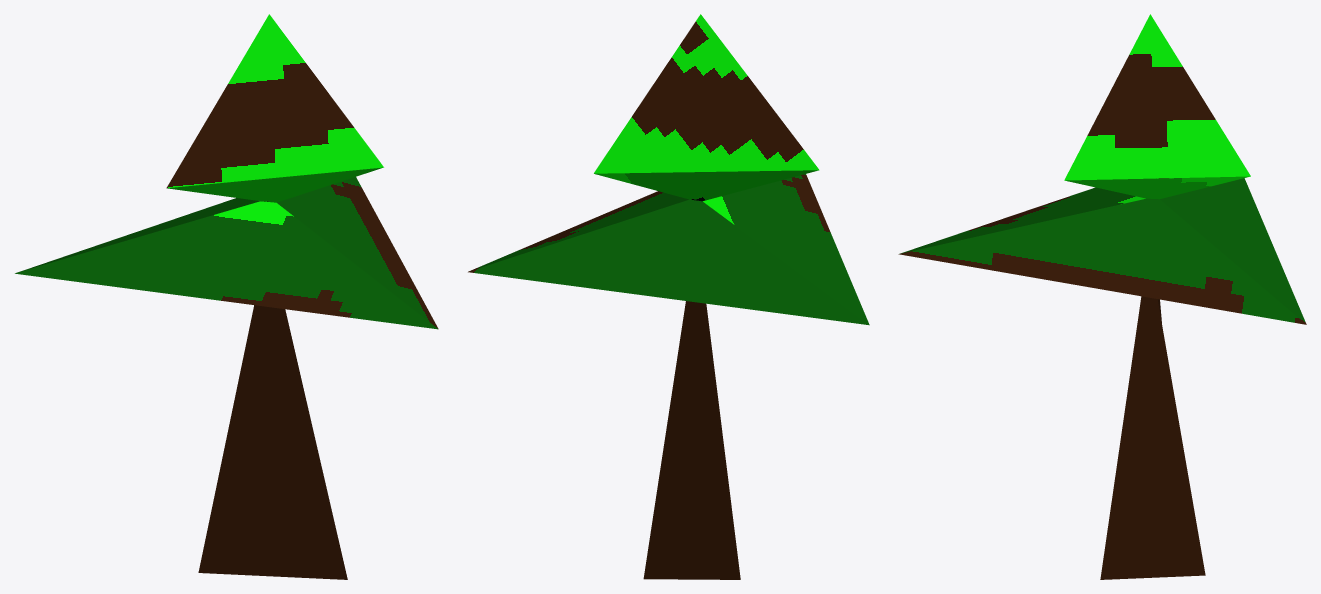
Rendered from Douglar_fir_LOW_POLY_final.fbx.
3 renders of one model, left to right at view 1: azimuth 30°, elevation 25°; view 2: azimuth 150°, elevation 25°; view 3: azimuth 270°, elevation 25°, orthographic. The views are drawn at different scales.
Visible parts, largest first — view 1: Cube; view 2: Cube; view 3: Cube.
Boxes of the visible parts, left/top/right/bottom form: Cube: left=15, top=14, right=438, bottom=579; Cube: left=468, top=14, right=869, bottom=579; Cube: left=898, top=14, right=1306, bottom=579.
Bounding box in the file's own units: 3651 × 3719 × 5397.
Materials: 1 (1 with a texture image).
